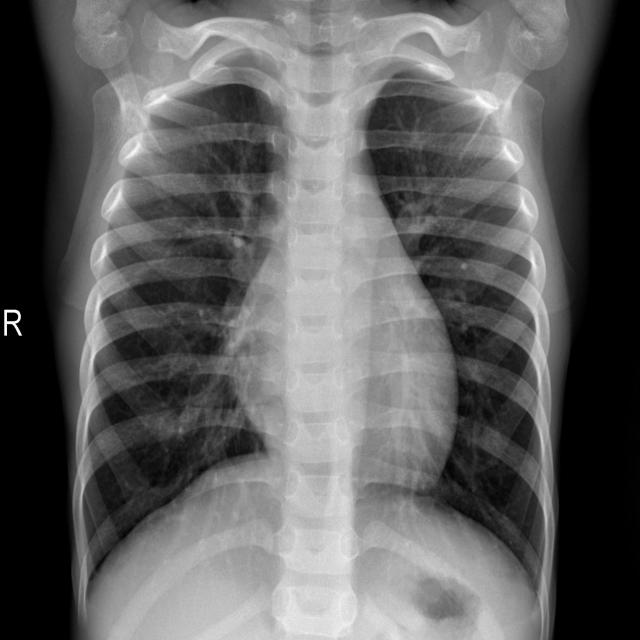no-pneumonia: (76, 83, 288, 605), (367, 80, 554, 632)
